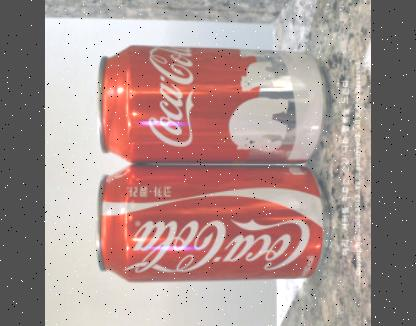Can: (96, 162, 334, 284), (97, 47, 328, 163)
